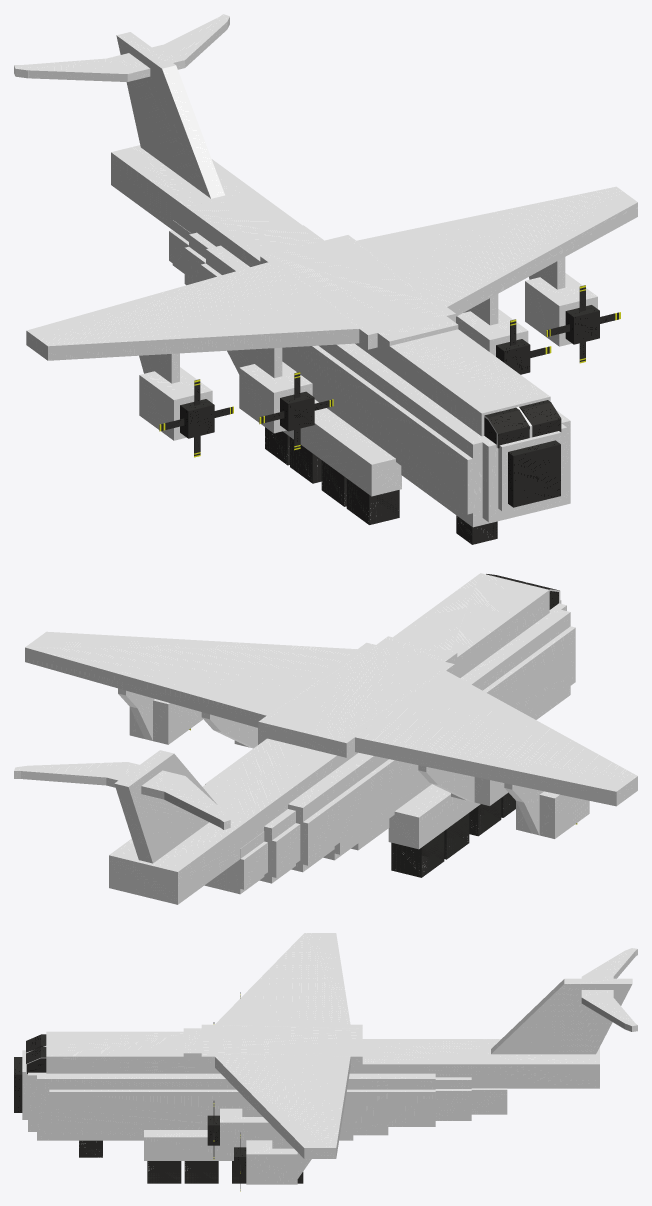
The model's file is BLOCKYGON_PLANE.fbx.
3 renders of one model, top to bottom at view 1: azimuth 30°, elevation 25°; view 2: azimuth 150°, elevation 25°; view 3: azimuth 270°, elevation 25°, orthographic. The views are drawn at different scales.
Visible parts, largest first — view 1: BLOCKYGON_PLANE; view 2: BLOCKYGON_PLANE; view 3: BLOCKYGON_PLANE.
Part boxes in pixels (<box>): BLOCKYGON_PLANE: <box>14,14,637,544</box>; BLOCKYGON_PLANE: <box>14,573,637,904</box>; BLOCKYGON_PLANE: <box>14,933,637,1191</box>.
Bounding box in the file's own units: 2318 × 881 × 2842.
